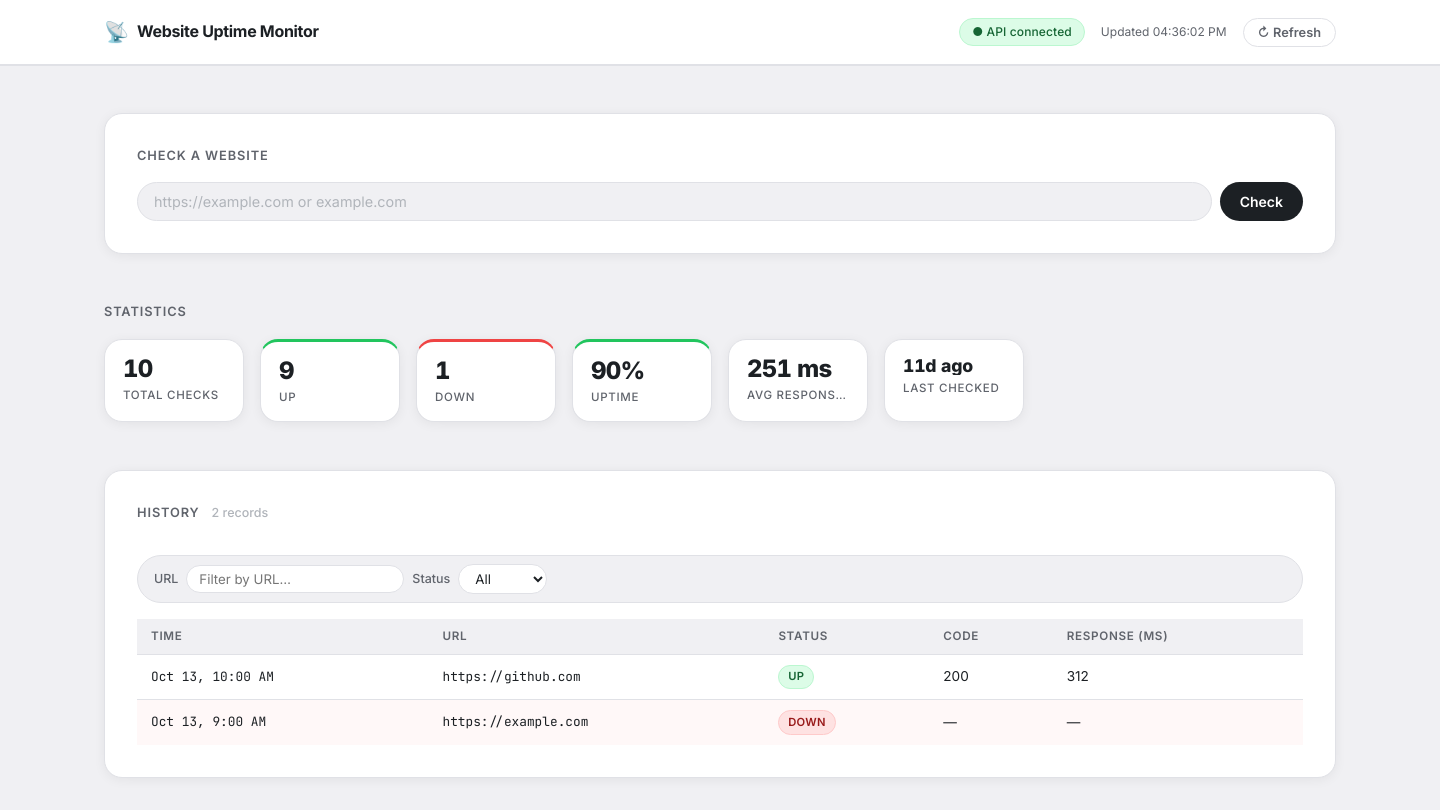
Test: HistoryFilters inside Dashboard › shows no-match message when nothing passes filter
Expected: the text "https://github.com" is shown, [428,654,764,700]
Type "xyz-does-not-exist" into the field with placeholder "Filter by URL…" at (295, 579), box [186,565,404,593]
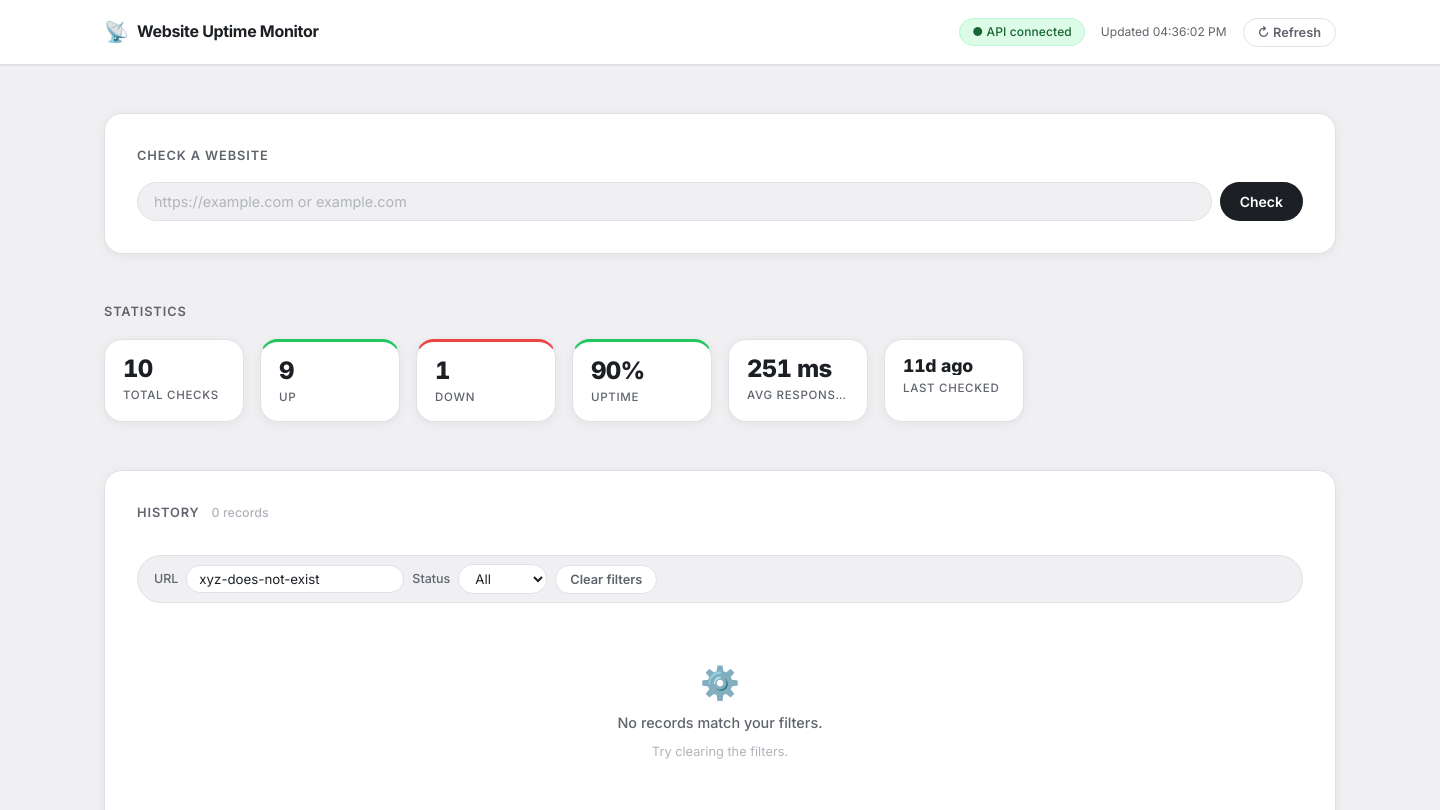
Result: the text "No records match your filters." is shown at [618,711,822,734]
